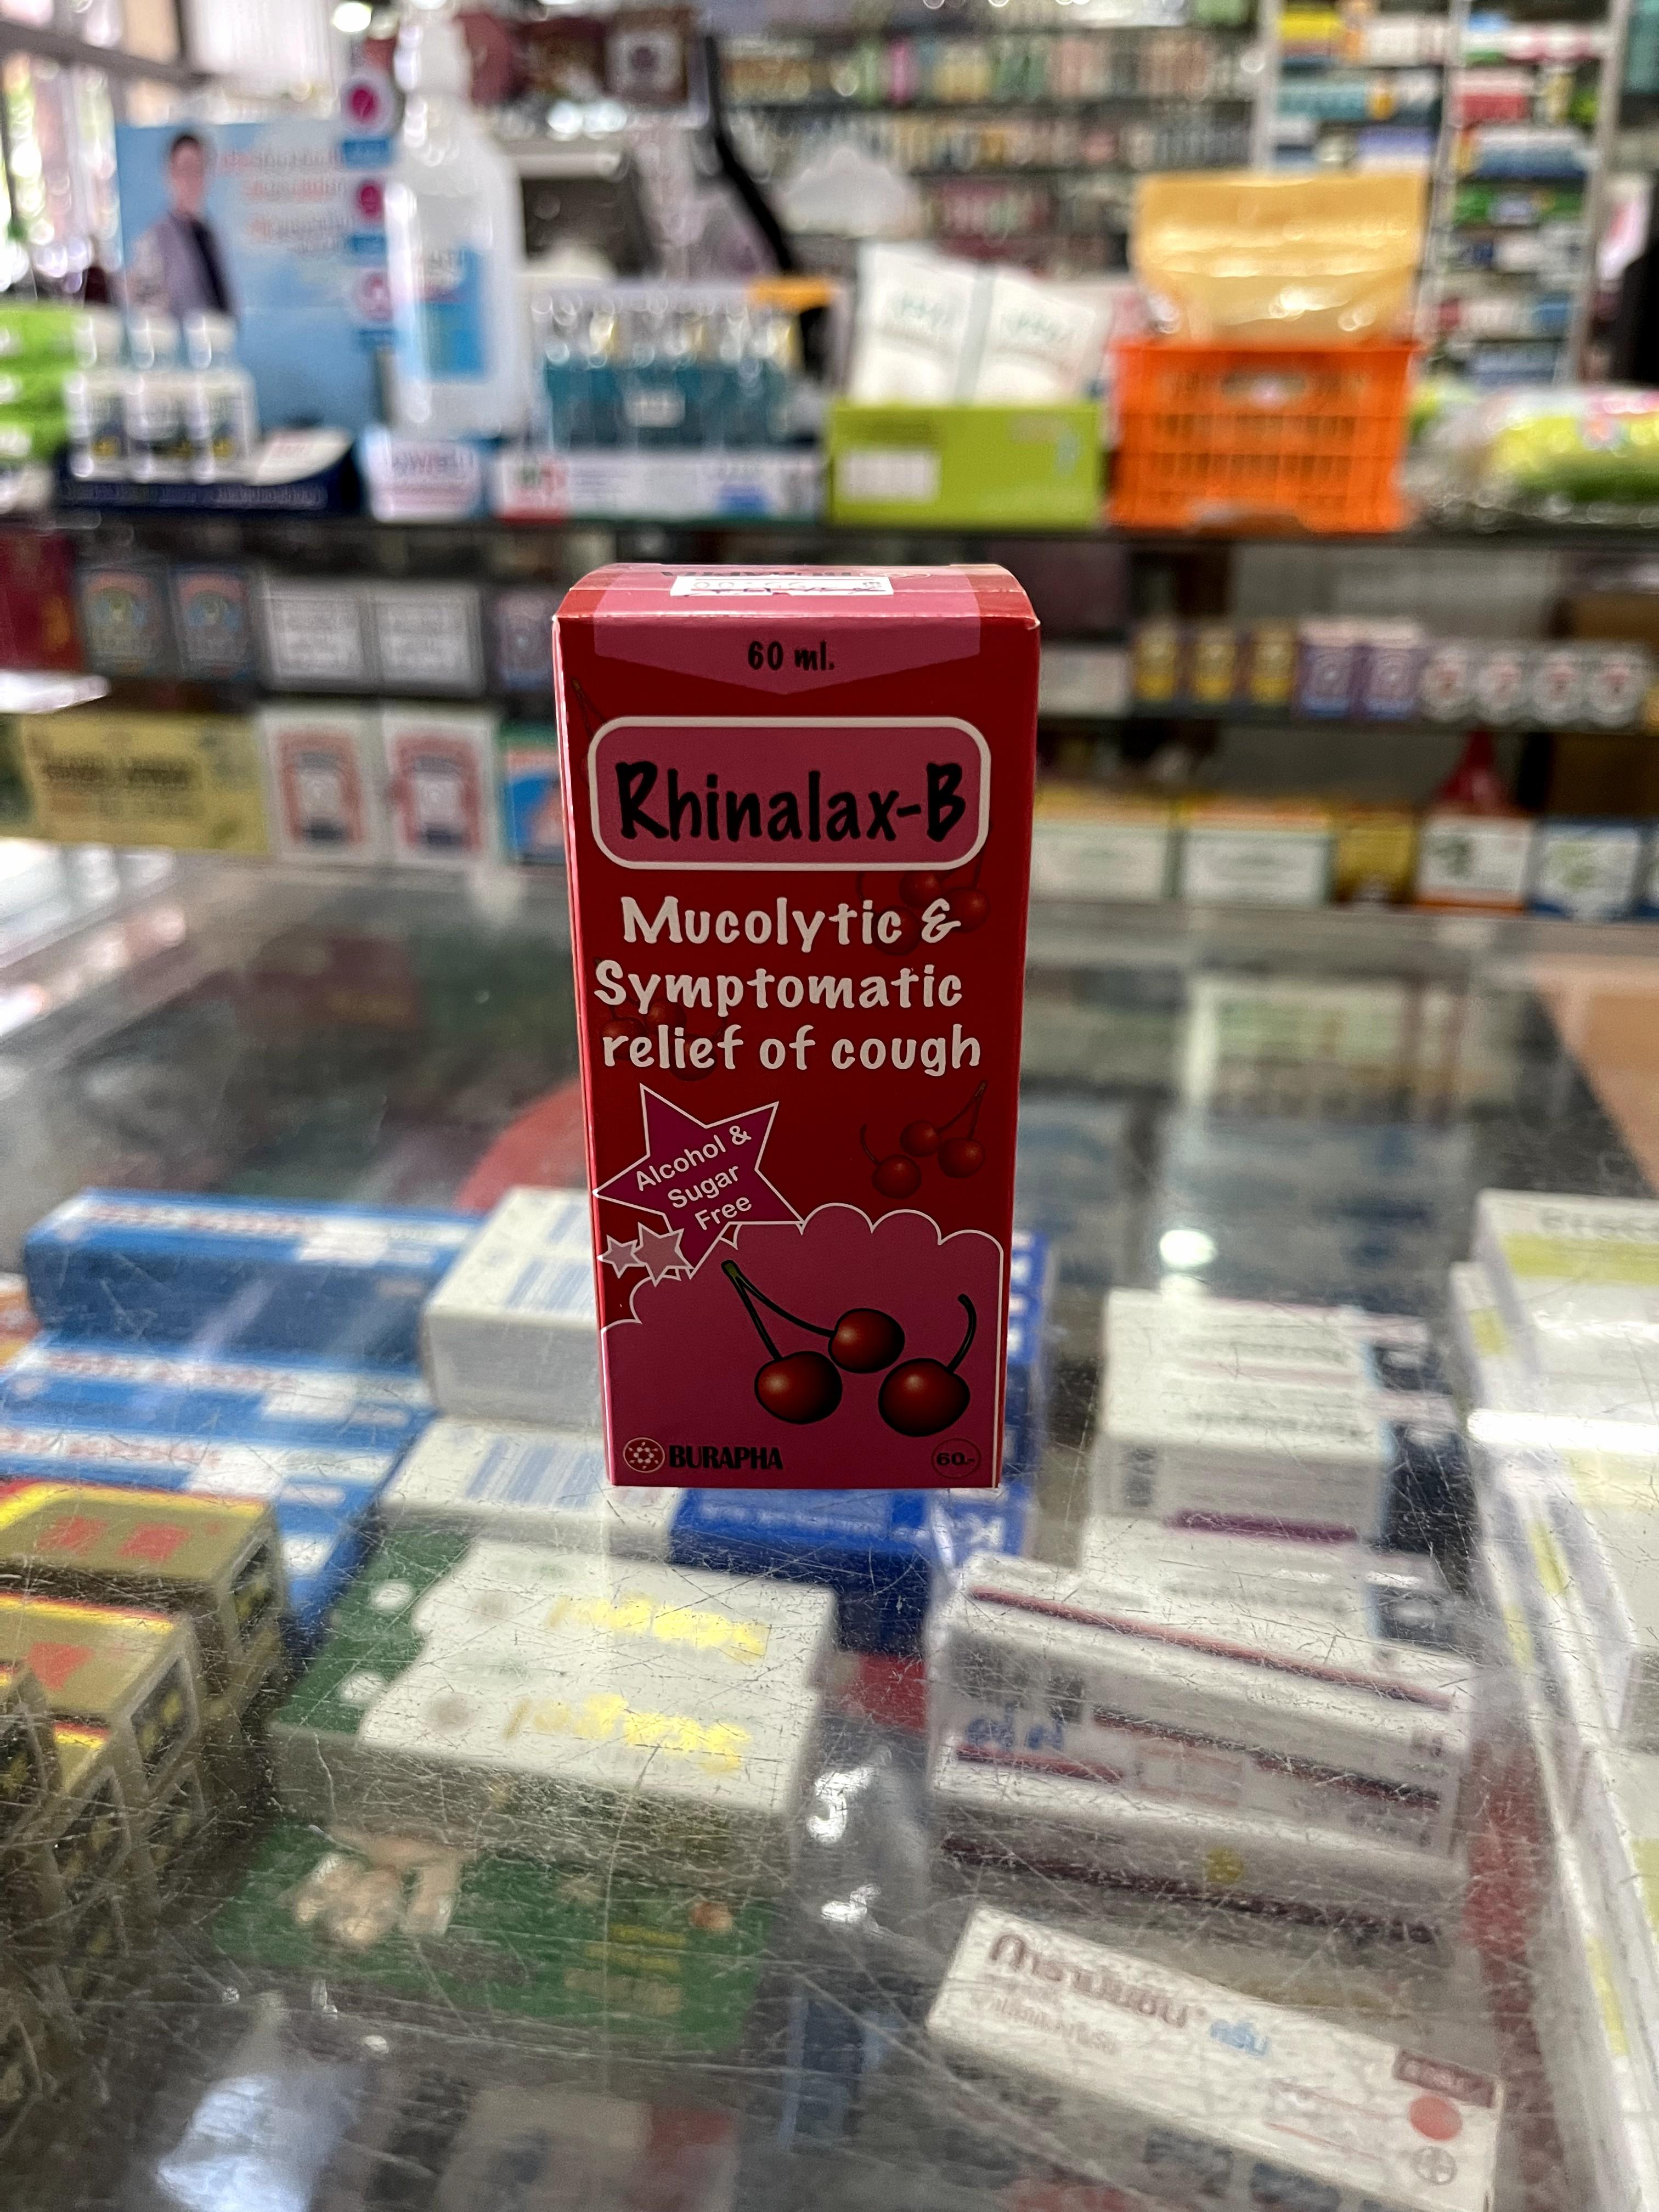Rhinalax-B: (563, 563, 1037, 1493)
